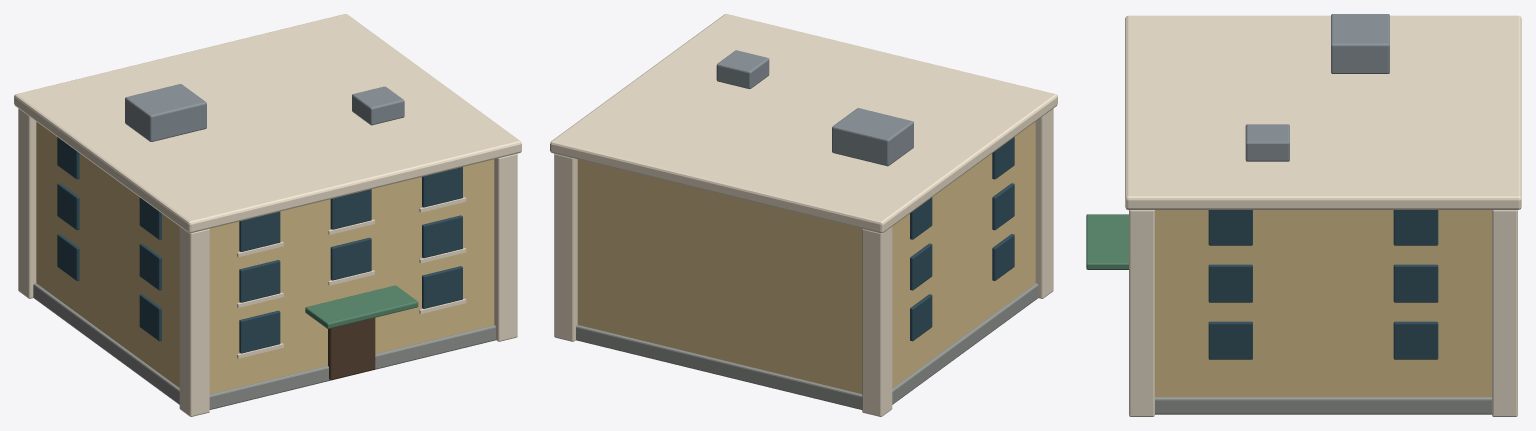
The model's file is building_1.glb.
The picture shows the model from 3 angles, left to right: view 1: azimuth 30°, elevation 25°; view 2: azimuth 150°, elevation 25°; view 3: azimuth 270°, elevation 25°; orthographic projection. The views are drawn at different scales.
Parts seen in each view (by area): view 1: Cube; view 2: Cube; view 3: Cube.
Part boxes in pixels (left/top/right/bottom): Cube: left=14, top=14, right=521, bottom=416; Cube: left=550, top=14, right=1057, bottom=416; Cube: left=1086, top=14, right=1521, bottom=416.
Size of the model in its own units: 11.7 by 7.5 by 11.75.
